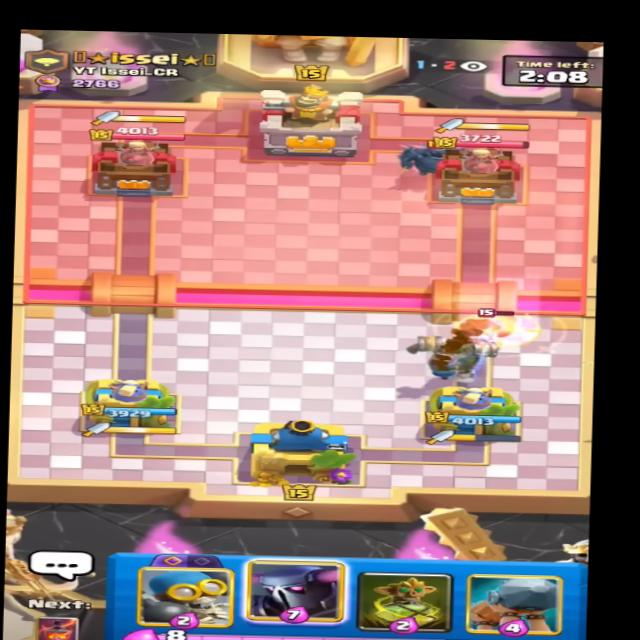pekka: (383, 134, 472, 181)
